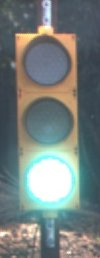Green: (9, 21, 82, 227)
